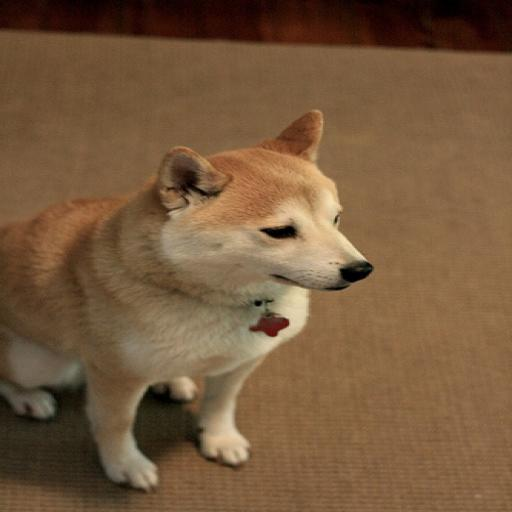dog_face: (155, 108, 363, 299)
